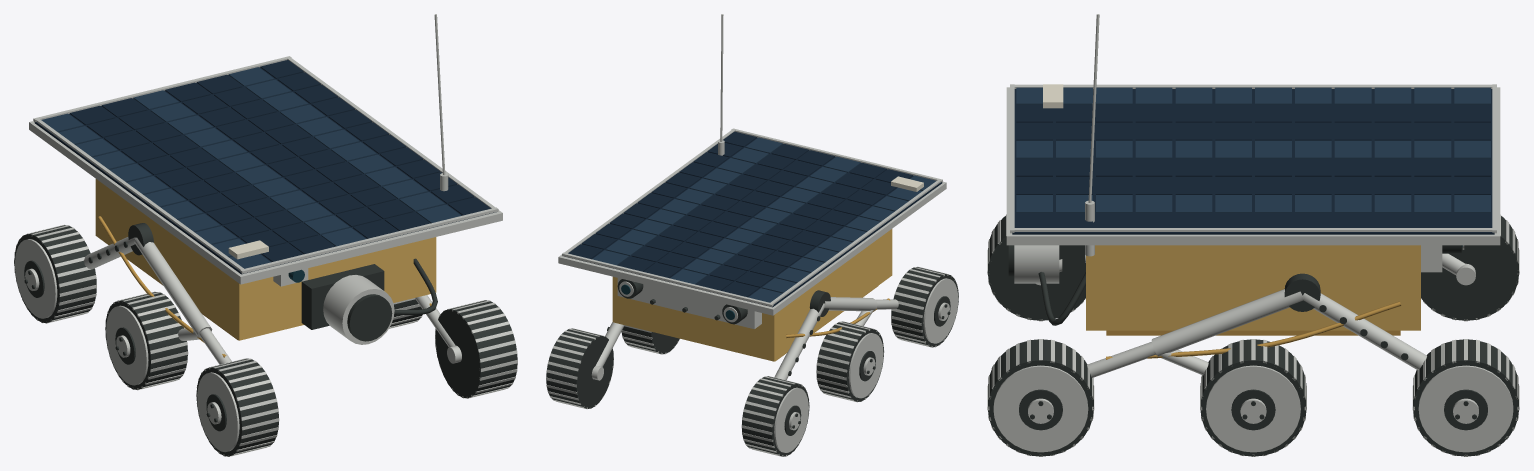
Rendered from sojourner-educational.glb.
The picture shows the model from 3 angles, left to right: view 1: azimuth 30°, elevation 25°; view 2: azimuth 150°, elevation 25°; view 3: azimuth 270°, elevation 25°; orthographic projection. The views are drawn at different scales.
Parts seen in each view (by area): view 1: Illustrative solar cell pattern (×65), Aluminum wheel tread (×4), Warm electronics box, Outer aluminum wheel face (×3), Dark solar array, Solar array substrate, Solar panel end edge (×2), Solar panel silver edge (×2), APXS simplified instrument head, Rear instrument attachment, Main rocker arm, APXS contact face (+6 smaller); view 2: Aluminum wheel tread (×5), Warm electronics box, Dark solar array, Outer aluminum wheel face (×3), Solar array substrate, Front camera and laser support, Solar panel end edge (×2), Solar panel silver edge (×2), Front rocker arm (×2), Main rocker arm; view 3: Illustrative solar cell pattern (×94), Warm electronics box, Aluminum wheel tread (×5), Outer aluminum wheel face (×3), Dark solar array, Solar array substrate, Solar panel silver edge (×2), Main rocker arm, Recessed wheel center (×3), Front rocker arm, APXS simplified instrument head, Solar panel end edge (×2) (+9 smaller).
Part boxes in pixels (left/top/right/bottom): Illustrative solar cell pattern (×65): left=70, top=67, right=444, bottom=242; Aluminum wheel tread (×4): left=14, top=225, right=517, bottom=456; Warm electronics box: left=95, top=179, right=436, bottom=340; Outer aluminum wheel face (×3): left=15, top=239, right=239, bottom=452; Dark solar array: left=34, top=67, right=496, bottom=274; Solar array substrate: left=29, top=121, right=502, bottom=284; Solar panel end edge (×2): left=33, top=56, right=498, bottom=273; Solar panel silver edge (×2): left=36, top=56, right=495, bottom=270; APXS simplified instrument head: left=323, top=275, right=394, bottom=344; Rear instrument attachment: left=301, top=264, right=384, bottom=329; Main rocker arm: left=134, top=237, right=212, bottom=337; APXS contact face: left=347, top=294, right=392, bottom=341; Aluminum wheel tread (×5): left=546, top=267, right=958, bottom=456; Warm electronics box: left=612, top=229, right=892, bottom=361; Dark solar array: left=564, top=137, right=942, bottom=307; Outer aluminum wheel face (×3): left=774, top=278, right=958, bottom=452; Solar array substrate: left=558, top=181, right=946, bottom=315; Front camera and laser support: left=617, top=278, right=761, bottom=329; Solar panel end edge (×2): left=562, top=128, right=942, bottom=306; Solar panel silver edge (×2): left=563, top=129, right=941, bottom=304; Front rocker arm (×2): left=595, top=303, right=824, bottom=380; Main rocker arm: left=824, top=297, right=877, bottom=311; Illustrative solar cell pattern (×94): left=1016, top=87, right=1490, bottom=227; Warm electronics box: left=1086, top=245, right=1420, bottom=330; Aluminum wheel tread (×5): left=987, top=216, right=1519, bottom=456; Outer aluminum wheel face (×3): left=993, top=365, right=1513, bottom=452; Dark solar array: left=1012, top=89, right=1494, bottom=234; Solar array substrate: left=1006, top=87, right=1500, bottom=245; Solar panel silver edge (×2): left=1011, top=84, right=1495, bottom=231; Main rocker arm: left=1151, top=289, right=1303, bottom=356; Recessed wheel center (×3): left=1019, top=389, right=1487, bottom=430; Front rocker arm: left=1302, top=293, right=1426, bottom=369; APXS simplified instrument head: left=1014, top=245, right=1059, bottom=283; Solar panel end edge (×2): left=1010, top=84, right=1496, bottom=233.
Bounding box in the file's own units: 0.48 × 0.5706 × 0.651.
